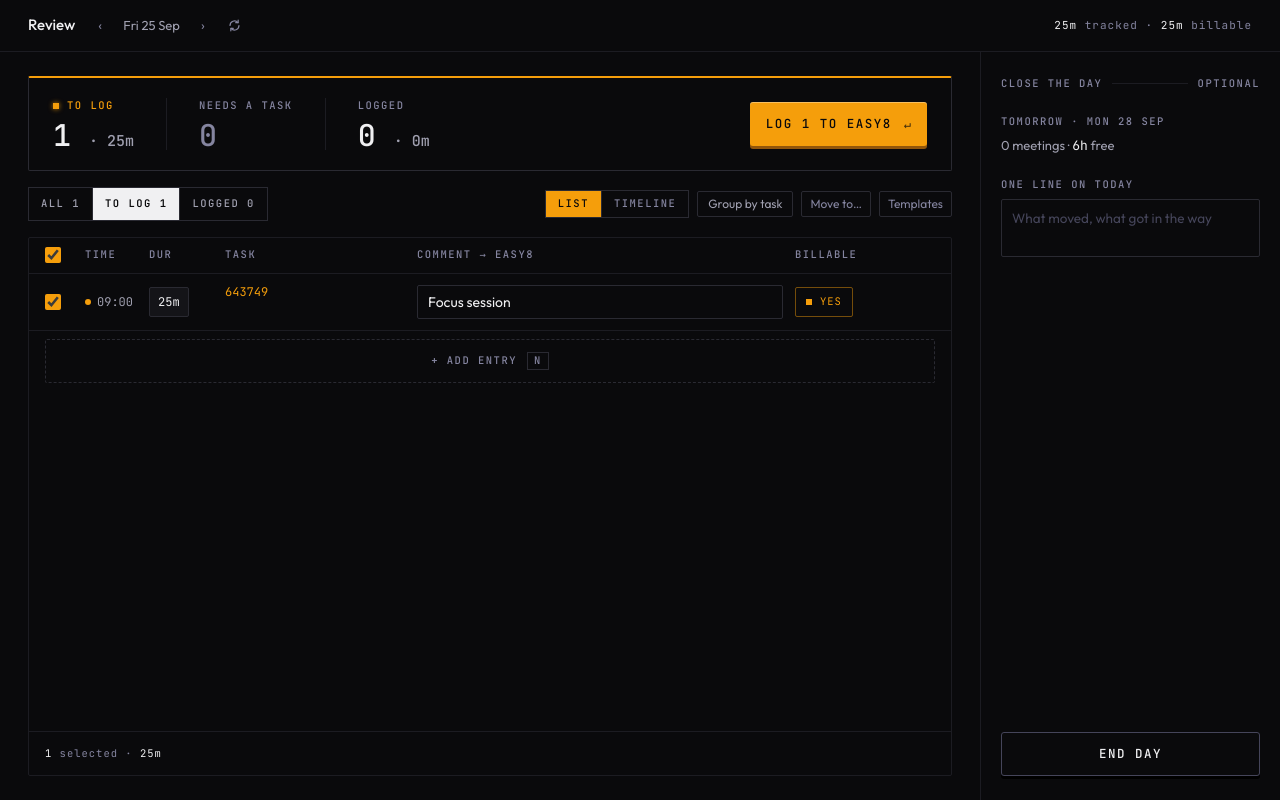
Test: DailyLog (Review) › a row error clears on the next log attempt and on edit
Click the button "Log 1 to Easy8 ↵": (838, 124) [750,102,927,146]
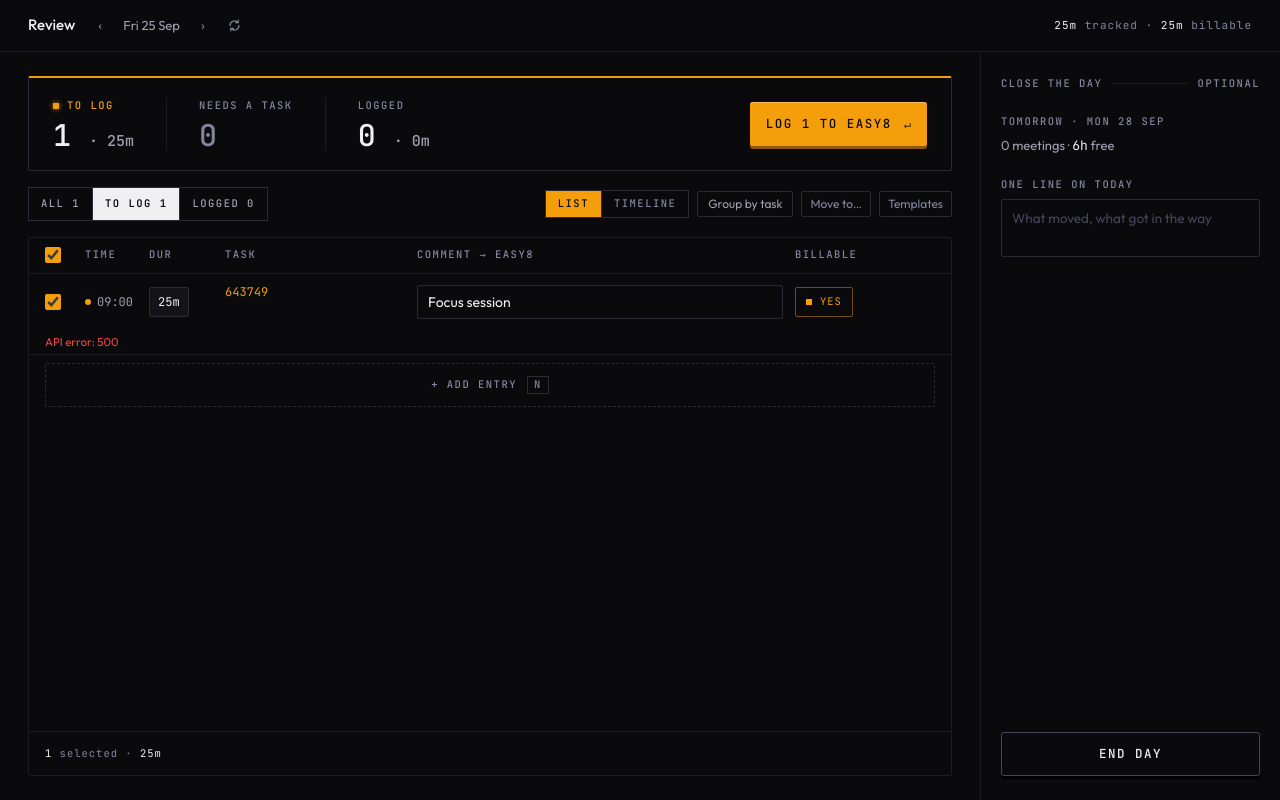
Check: the message reads "API error: 500", box [45,334,118,349]
Click the button "Log 1 to Easy8 ↵": (838, 124) [750,102,927,146]
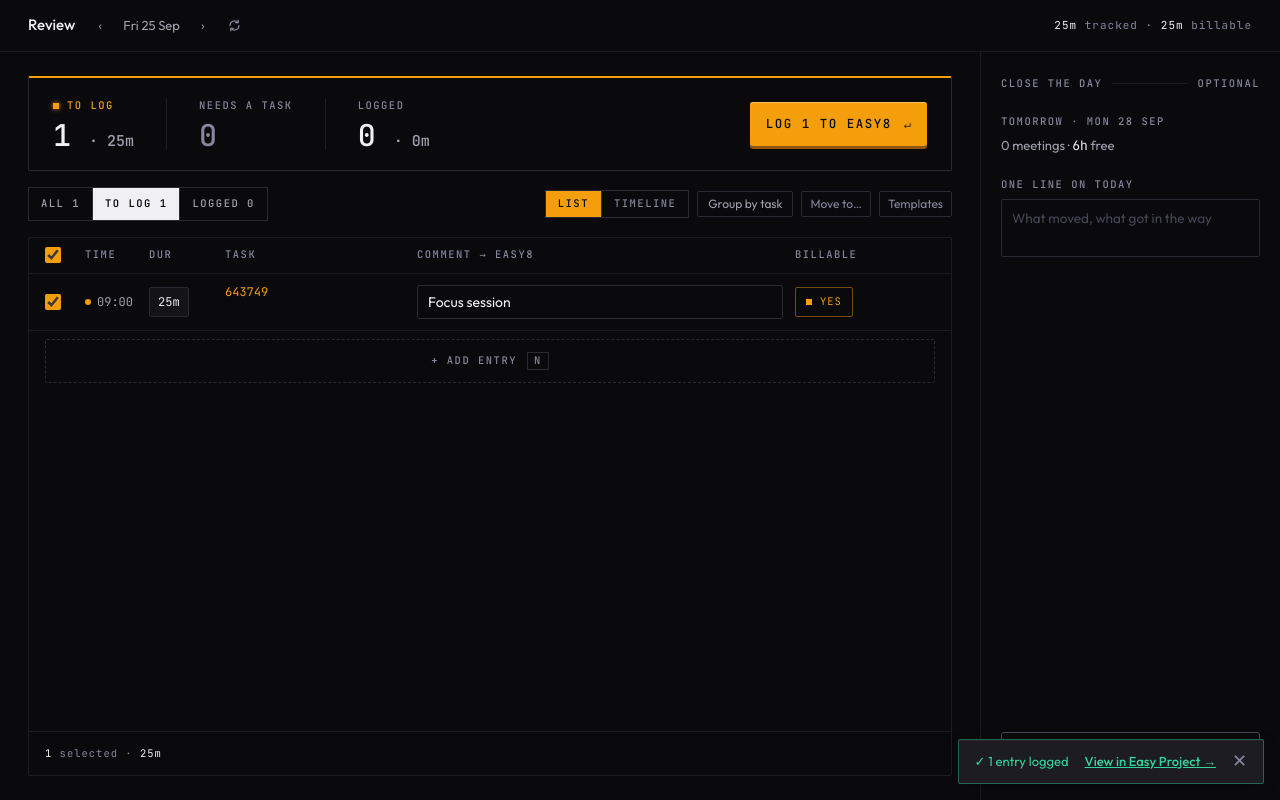
Check: the message "API error: 500" is gone
Click the button "Log 1 to Easy8 ↵": (838, 124) [750,102,927,146]
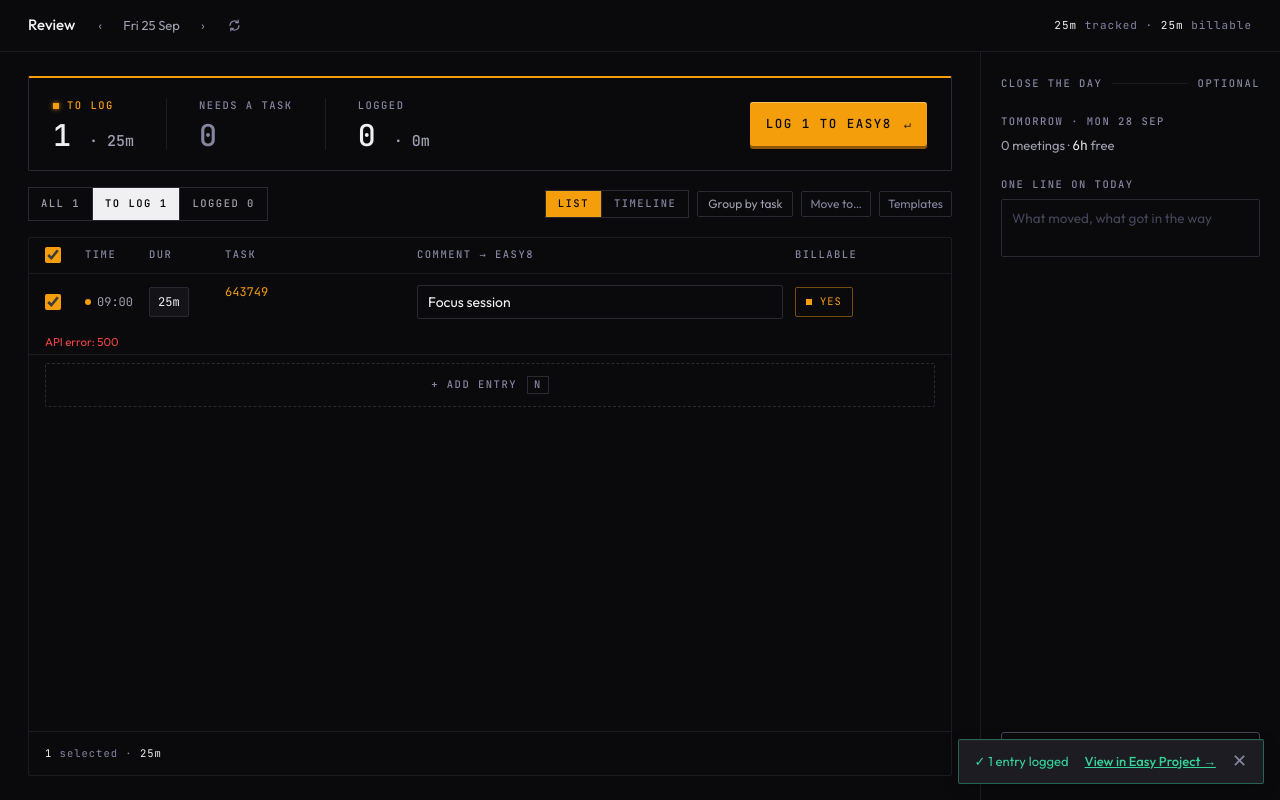
Check: the message "API error: 500" is shown, box [45,334,118,349]
Click the button with aria-label "Billable": (824, 302) [795,287,853,317]
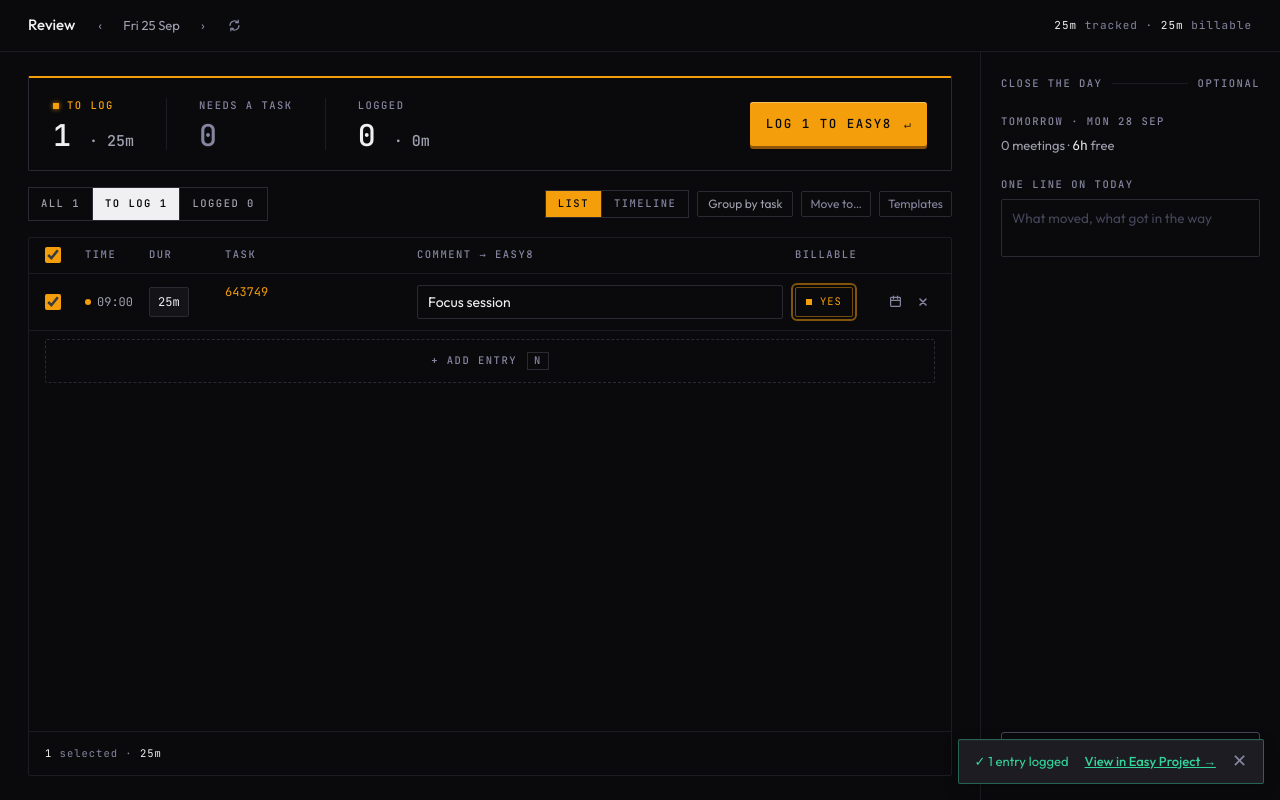
Check: the message "API error: 500" is gone
